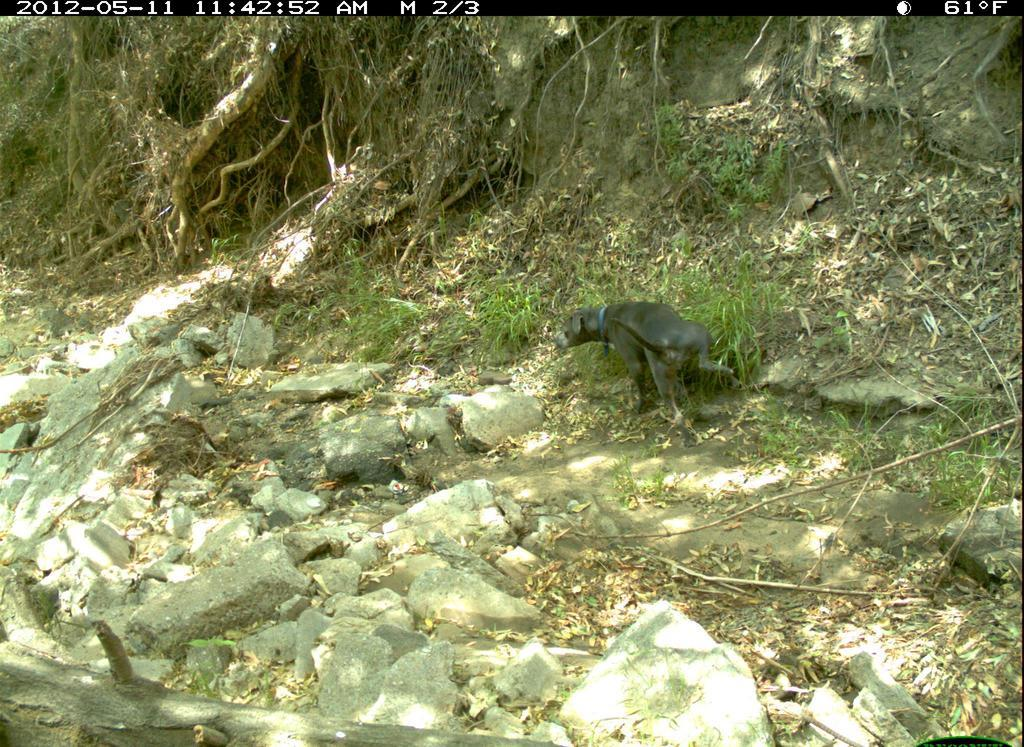dog: (560, 253, 735, 442)
